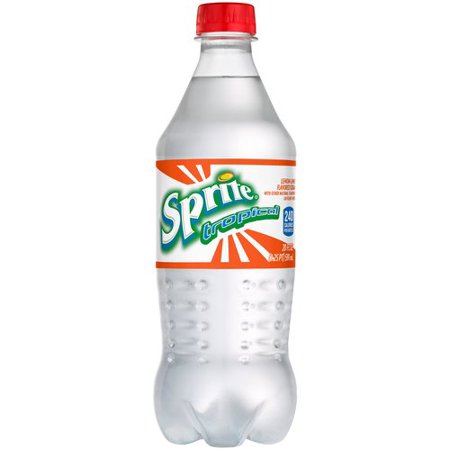sprite: (161, 178, 253, 243)
